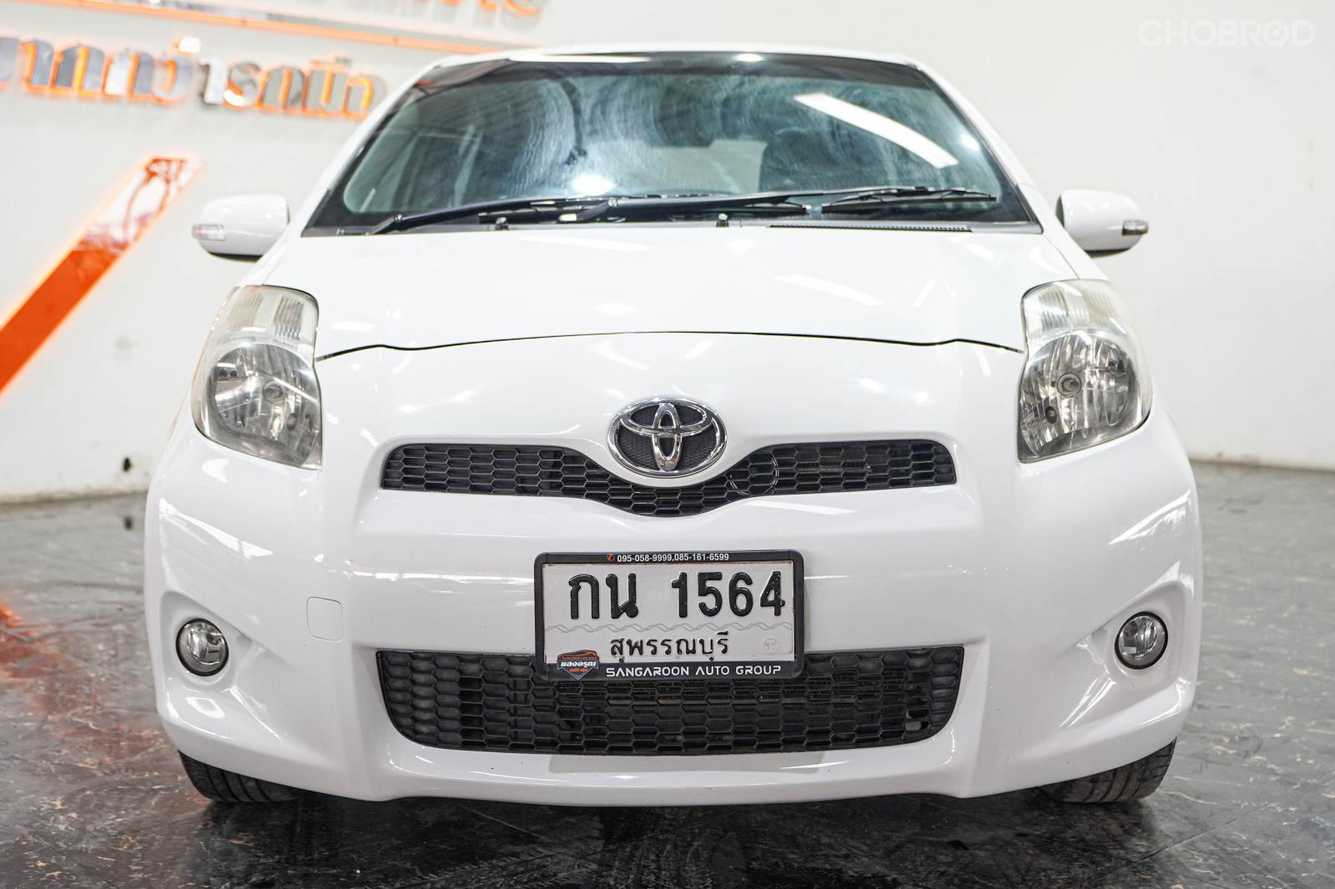license-plate: (532, 549, 807, 685)
